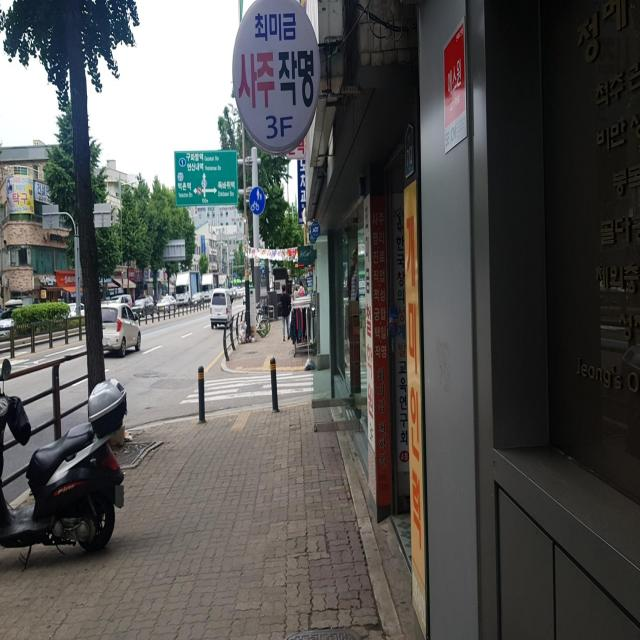횡단보도: (179, 371, 314, 406)
